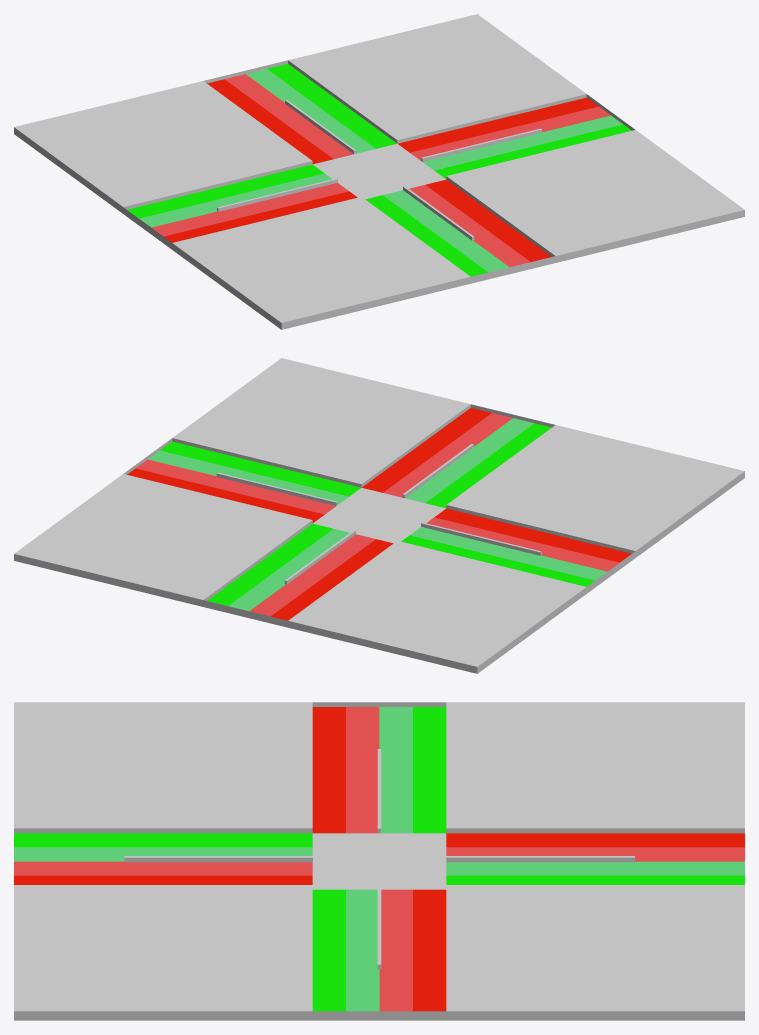
File: Road.fbx
3 renders of one model, top to bottom at view 1: azimuth 30°, elevation 25°; view 2: azimuth 150°, elevation 25°; view 3: azimuth 270°, elevation 25°, orthographic. The views are drawn at different scales.
Parts seen in each view (by area): view 1: Cube.001, Cube, Cube.002; view 2: Cube.001, Cube, Cube.002; view 3: Cube.001, Cube, Cube.002.
Part boxes in pixels (bbox=[...]): Cube.001: bbox=[14, 14, 744, 322]; Cube: bbox=[14, 64, 744, 329]; Cube.002: bbox=[217, 100, 541, 240]; Cube.001: bbox=[14, 358, 744, 666]; Cube: bbox=[14, 408, 744, 673]; Cube.002: bbox=[216, 444, 541, 584]; Cube.001: bbox=[14, 702, 744, 1015]; Cube: bbox=[14, 707, 744, 1020]; Cube.002: bbox=[124, 749, 634, 969].
Bounding box in the file's own units: 1330 × 19.14 × 1330.
